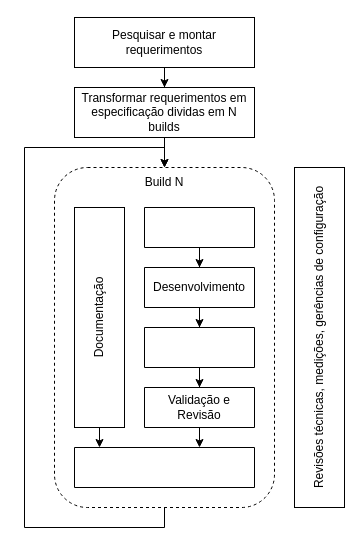
This 362x553 diagram has some shape labels left out. The shapes that lost their labels are listed below. From the top down, each one's box as (x1, y1, x2, y2) in pixels, then its label:
(144, 206, 254, 248): Design
(144, 326, 254, 368): Implementação
(74, 446, 254, 488): Evolução
